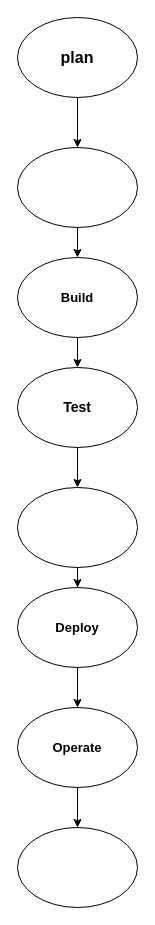
The diagram is 155 pixels wide and 925 high, and some of its shapes have lost their labels. The shapes that lost their labels are listed below. From the top down, each one's centre as x and y in pixels, then its label:
[77,187]: Develop
[77,527]: Release
[77,867]: Maintain
